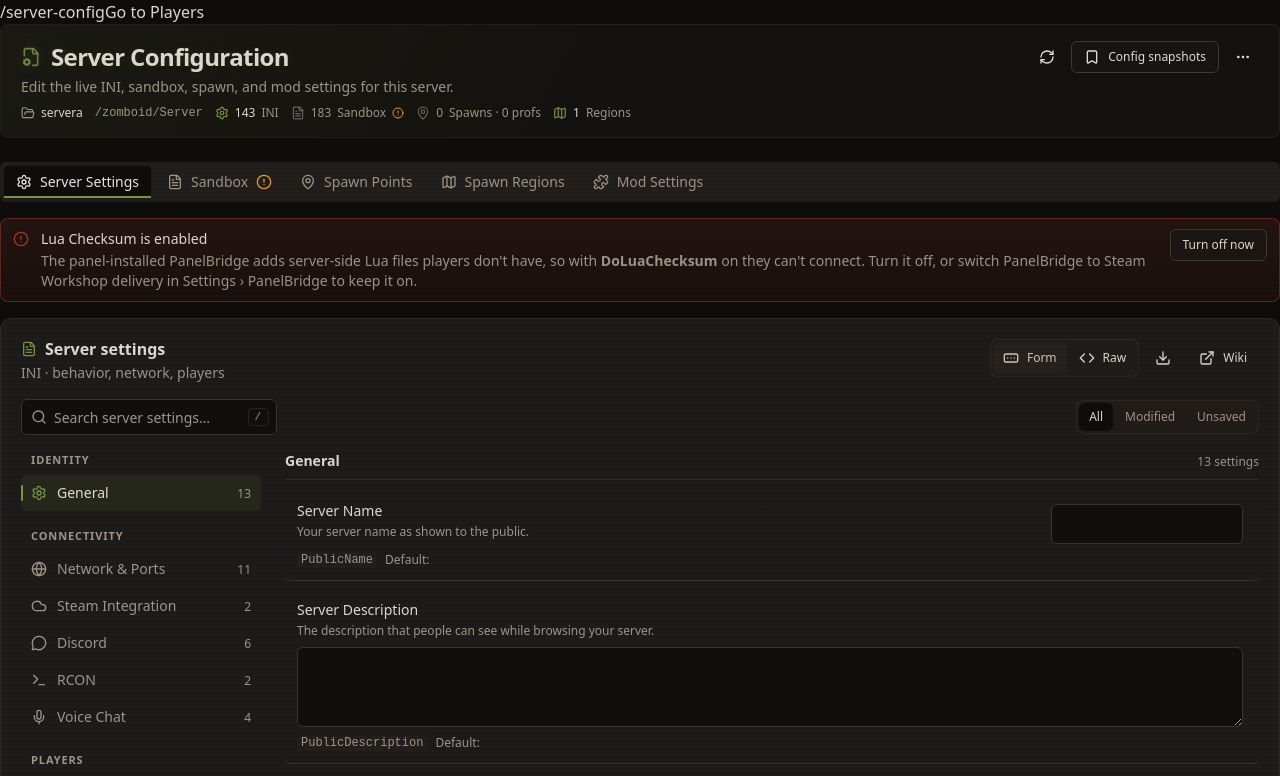
Scenario: Server Configuration: URL state › writes the open tab to ?tab= so a reload or a link opens it again
The width and height of the screenshot is (1280, 776).
Press the mouse on the tab "Spawn Regions" at {"x": 503, "y": 182}, box [428, 166, 577, 198]
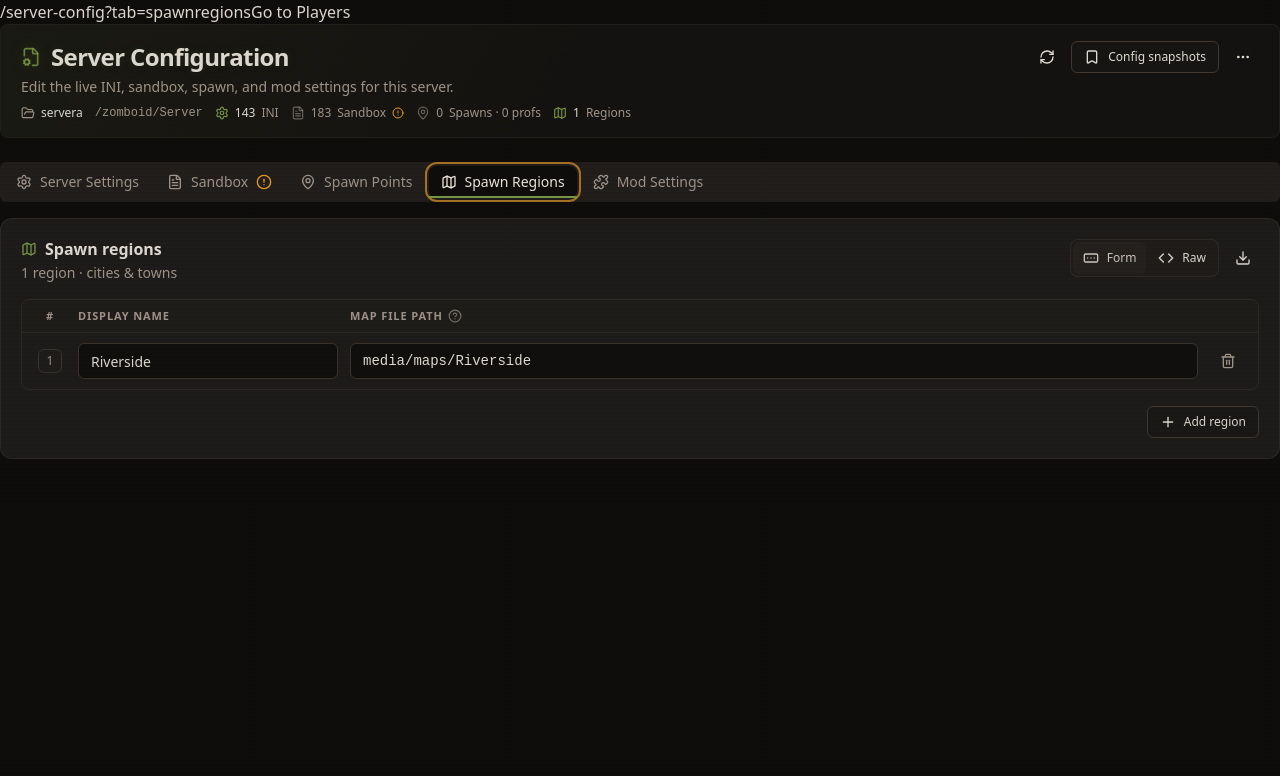
Result: the text with test id "location" shows "tab=spawnregions" at [0, 1, 251, 23]
